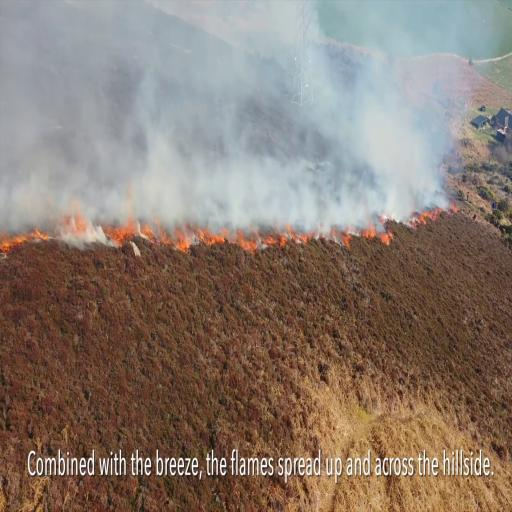fire: (176, 215, 237, 255), (319, 210, 374, 248), (240, 212, 285, 249), (129, 221, 175, 249), (106, 221, 128, 250)
smoke: (1, 1, 460, 207)
